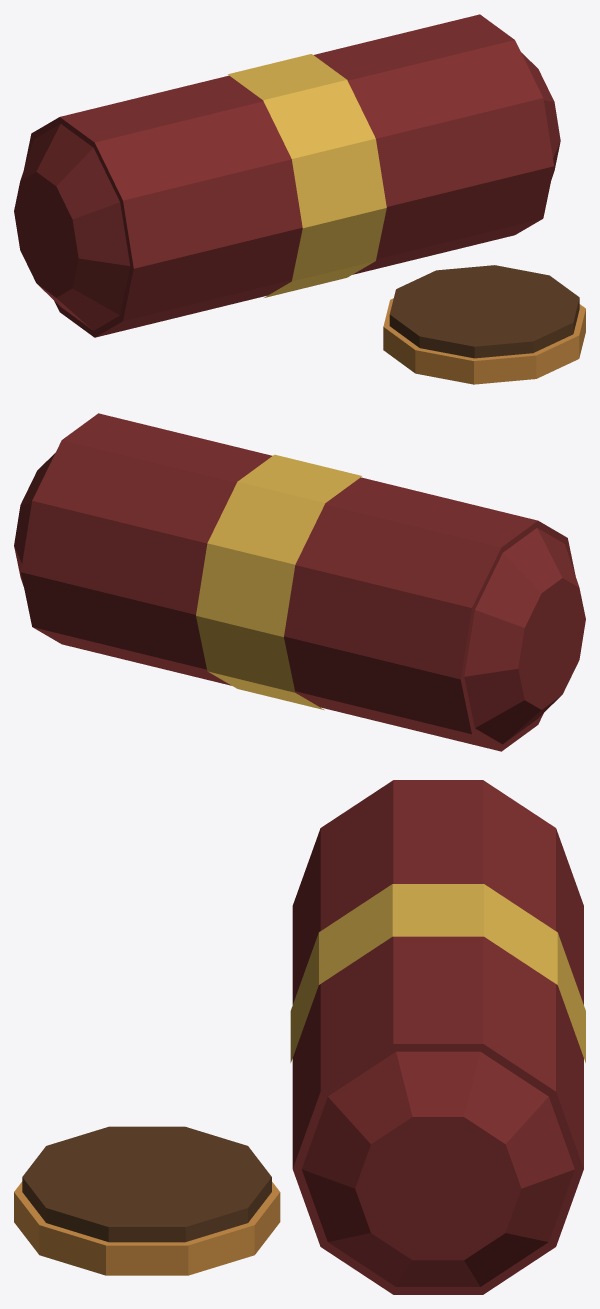
Rendered from s-biscuits.glb.
The picture shows the model from 3 angles, top to bottom: view 1: azimuth 30°, elevation 25°; view 2: azimuth 150°, elevation 25°; view 3: azimuth 270°, elevation 25°; orthographic projection. The views are drawn at different scales.
Parts seen in each view (by area): view 1: s_biscuits; view 2: s_biscuits; view 3: s_biscuits.
Boxes of the visible parts, x1,y1,x2,y2 form: s_biscuits: (14, 14, 585, 384); s_biscuits: (14, 413, 585, 751); s_biscuits: (14, 780, 585, 1294).
Size of the model in its own units: 0.172 by 0.0688 by 0.1375.
